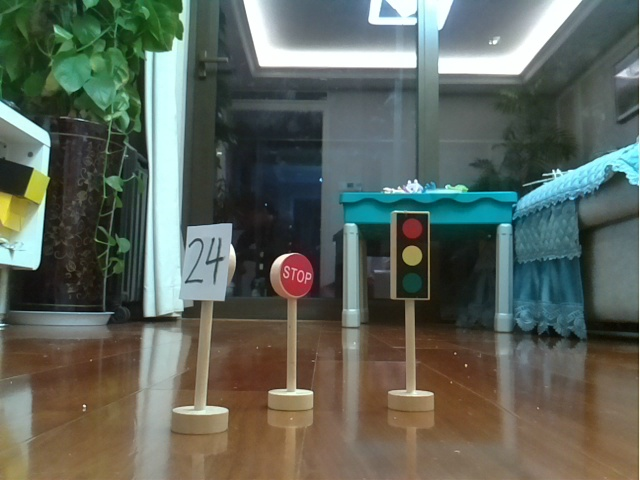Red Traffic Light: (379, 200, 443, 420)
Speed Limit 24: (170, 217, 238, 438)
Stop Sign: (260, 246, 320, 413)
